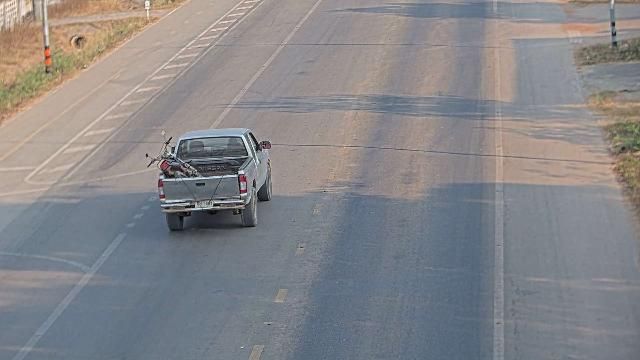pickup-truck: (145, 127, 273, 231)
